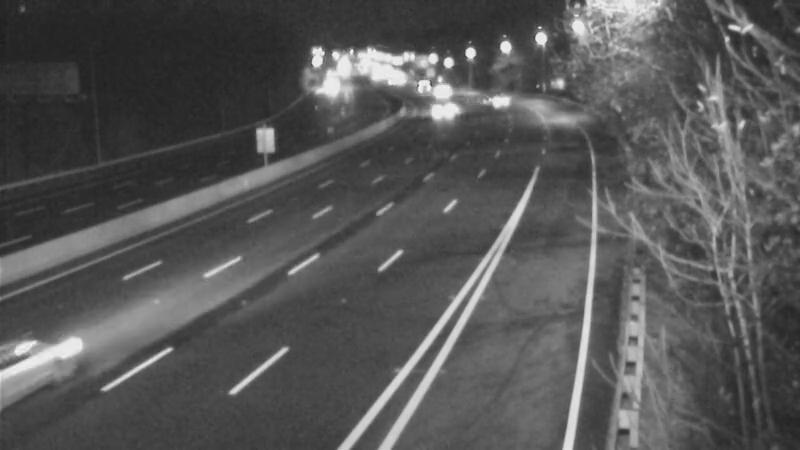vehicle: (1, 313, 97, 423), (475, 71, 525, 121), (408, 64, 458, 114), (417, 87, 467, 137), (305, 60, 355, 110)
